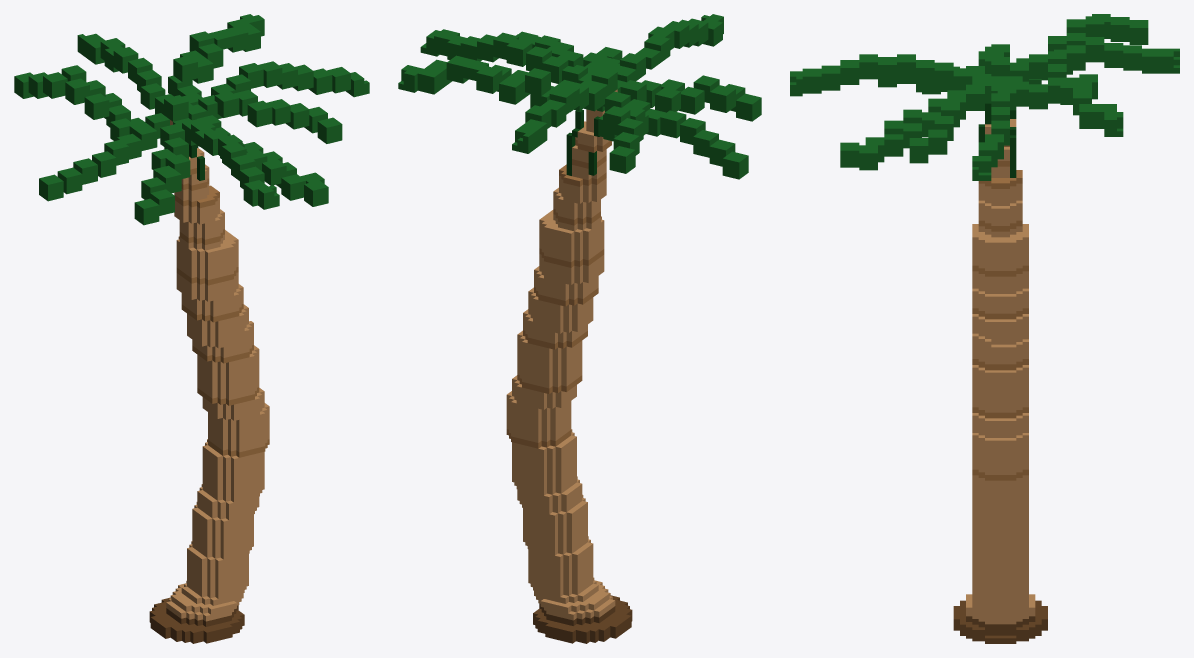
The model's file is 2_2 coco.obj.
The picture shows the model from 3 angles, left to right: view 1: azimuth 30°, elevation 25°; view 2: azimuth 150°, elevation 25°; view 3: azimuth 270°, elevation 25°; orthographic projection. The views are drawn at different scales.
Size of the model in its own units: 6 by 10 by 6.2.
Materials: 1 (1 with a texture image).
